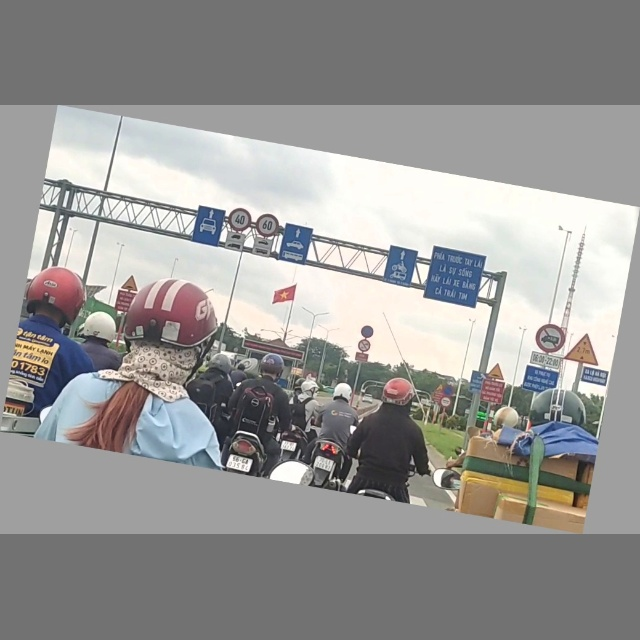Camera: (468, 370, 486, 393)
P.106a*Xe tai: (533, 323, 568, 356)
P.111: (357, 339, 372, 354)
P.127*40: (227, 207, 254, 233)
P.127*60: (254, 213, 281, 240)
P.129: (440, 397, 453, 409)
P.130: (359, 325, 375, 340)
P.131a: (442, 385, 455, 398)
W.221b: (120, 273, 141, 293), (486, 362, 507, 381), (435, 384, 444, 393)
W.239b*: (564, 331, 605, 368)
